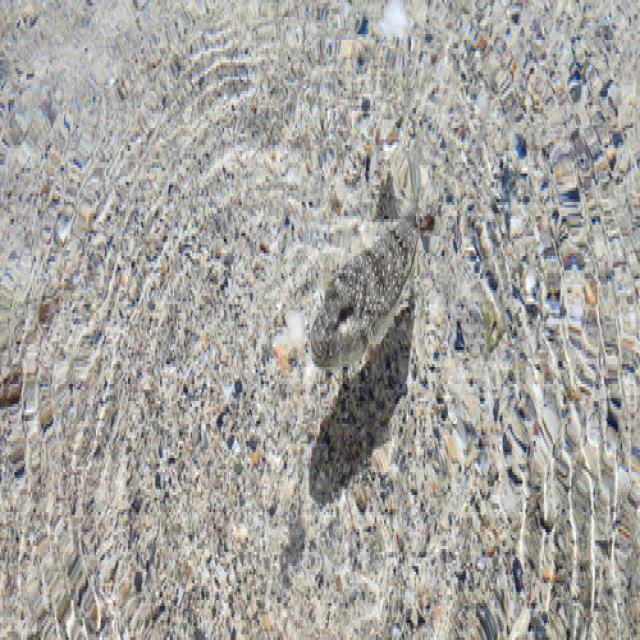Balik: (310, 154, 421, 369)
